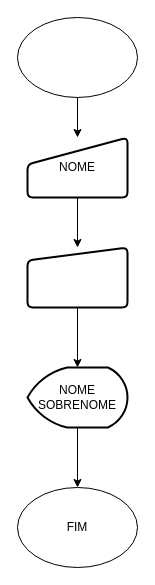
Image size: 155x585. Some labels were removed from this diagram. Each missing label, with the box of its shape:
INICIO: (16, 16, 138, 98)
SOBRENOME: (26, 246, 128, 308)
